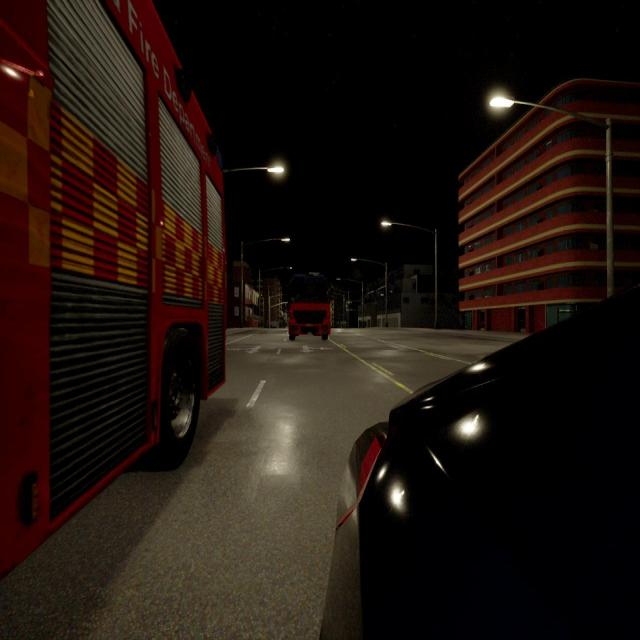Vehicle: (0, 0, 224, 575), (323, 297, 640, 640), (288, 275, 329, 340)
